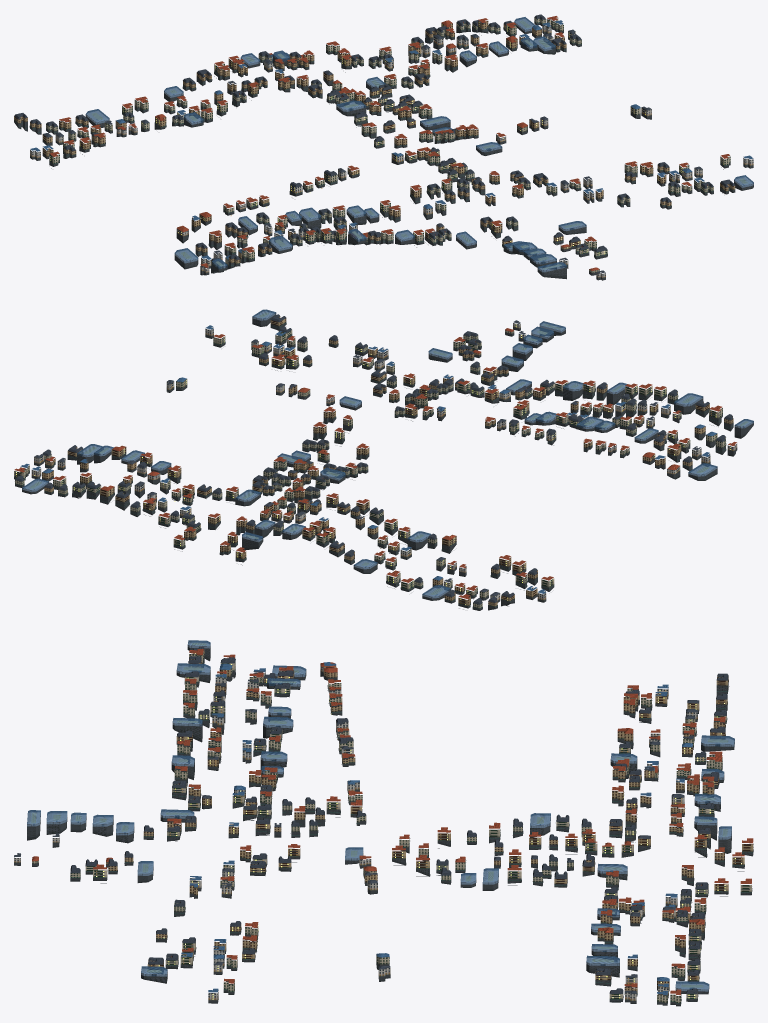
File: osm_buildings_T_W02_N01_Q1.glb
3 renders of one model, top to bottom at view 1: azimuth 30°, elevation 25°; view 2: azimuth 150°, elevation 25°; view 3: azimuth 270°, elevation 25°, orthographic. The views are drawn at different scales.
Parts seen in each view (by area): view 1: OSM_T_W02_N01_Q1_foundation, OSM_T_W02_N01_Q1_wall_french_ochre, OSM_T_W02_N01_Q1_wall_cream_stucco, OSM_T_W02_N01_Q1_greenhouse_blend, OSM_T_W02_N01_Q1_roof_terracotta, OSM_T_W02_N01_Q1_roof_mansard_slate, OSM_T_W02_N01_Q1_roof_mansard_deck, OSM_T_W02_N01_Q1_roof_mint_metal, OSM_T_W02_N01_Q1_wall_warm_white, OSM_T_W02_N01_Q1_trim_cornice, OSM_T_W02_N01_Q1_wall_pastel_sand, OSM_T_W02_N01_Q1_roof_alpine_blue (+2 smaller); view 2: OSM_T_W02_N01_Q1_foundation, OSM_T_W02_N01_Q1_wall_french_ochre, OSM_T_W02_N01_Q1_wall_cream_stucco, OSM_T_W02_N01_Q1_greenhouse_blend, OSM_T_W02_N01_Q1_roof_terracotta, OSM_T_W02_N01_Q1_roof_mansard_slate, OSM_T_W02_N01_Q1_roof_mansard_deck, OSM_T_W02_N01_Q1_roof_mint_metal, OSM_T_W02_N01_Q1_wall_pastel_sand, OSM_T_W02_N01_Q1_wall_warm_white, OSM_T_W02_N01_Q1_roof_alpine_blue, OSM_T_W02_N01_Q1_window_emissive_warm (+2 smaller); view 3: OSM_T_W02_N01_Q1_foundation, OSM_T_W02_N01_Q1_wall_french_ochre, OSM_T_W02_N01_Q1_greenhouse_blend, OSM_T_W02_N01_Q1_wall_cream_stucco, OSM_T_W02_N01_Q1_roof_terracotta, OSM_T_W02_N01_Q1_roof_mansard_slate, OSM_T_W02_N01_Q1_roof_mansard_deck, OSM_T_W02_N01_Q1_trim_cornice, OSM_T_W02_N01_Q1_roof_alpine_blue, OSM_T_W02_N01_Q1_window_emissive_warm, OSM_T_W02_N01_Q1_wall_pastel_sand, OSM_T_W02_N01_Q1_roof_mint_metal (+2 smaller).
Boxes of the visible parts, x1,y1,x2,y2 form: OSM_T_W02_N01_Q1_foundation: [14, 21, 753, 280]; OSM_T_W02_N01_Q1_wall_french_ochre: [14, 21, 735, 263]; OSM_T_W02_N01_Q1_wall_cream_stucco: [46, 17, 730, 272]; OSM_T_W02_N01_Q1_greenhouse_blend: [85, 17, 753, 272]; OSM_T_W02_N01_Q1_roof_terracotta: [49, 16, 729, 270]; OSM_T_W02_N01_Q1_roof_mansard_slate: [14, 16, 734, 273]; OSM_T_W02_N01_Q1_roof_mansard_deck: [16, 14, 751, 271]; OSM_T_W02_N01_Q1_roof_mint_metal: [14, 22, 734, 269]; OSM_T_W02_N01_Q1_wall_warm_white: [30, 25, 753, 240]; OSM_T_W02_N01_Q1_trim_cornice: [15, 18, 752, 273]; OSM_T_W02_N01_Q1_wall_pastel_sand: [116, 31, 692, 277]; OSM_T_W02_N01_Q1_roof_alpine_blue: [30, 20, 753, 259]; OSM_T_W02_N01_Q1_foundation: [14, 314, 753, 610]; OSM_T_W02_N01_Q1_wall_french_ochre: [42, 316, 733, 606]; OSM_T_W02_N01_Q1_wall_cream_stucco: [14, 328, 725, 608]; OSM_T_W02_N01_Q1_greenhouse_blend: [22, 309, 753, 598]; OSM_T_W02_N01_Q1_roof_terracotta: [14, 328, 736, 599]; OSM_T_W02_N01_Q1_roof_mansard_slate: [15, 314, 733, 604]; OSM_T_W02_N01_Q1_roof_mansard_deck: [17, 313, 743, 602]; OSM_T_W02_N01_Q1_roof_mint_metal: [14, 323, 733, 608]; OSM_T_W02_N01_Q1_wall_pastel_sand: [34, 323, 737, 572]; OSM_T_W02_N01_Q1_wall_warm_white: [31, 327, 680, 600]; OSM_T_W02_N01_Q1_roof_alpine_blue: [20, 325, 716, 593]; OSM_T_W02_N01_Q1_window_emissive_warm: [16, 313, 747, 599]; OSM_T_W02_N01_Q1_foundation: [14, 646, 753, 1006]; OSM_T_W02_N01_Q1_wall_french_ochre: [106, 649, 753, 992]; OSM_T_W02_N01_Q1_greenhouse_blend: [27, 640, 734, 991]; OSM_T_W02_N01_Q1_wall_cream_stucco: [32, 651, 751, 1003]; OSM_T_W02_N01_Q1_roof_terracotta: [32, 649, 753, 995]; OSM_T_W02_N01_Q1_roof_mansard_slate: [14, 647, 728, 994]; OSM_T_W02_N01_Q1_roof_mansard_deck: [27, 645, 731, 991]; OSM_T_W02_N01_Q1_trim_cornice: [14, 654, 752, 1002]; OSM_T_W02_N01_Q1_roof_alpine_blue: [181, 662, 692, 994]; OSM_T_W02_N01_Q1_window_emissive_warm: [32, 643, 735, 998]; OSM_T_W02_N01_Q1_wall_pastel_sand: [14, 657, 684, 1000]; OSM_T_W02_N01_Q1_roof_mint_metal: [70, 670, 752, 1003].
Bounding box in the file's own units: 935 × 91.98 × 922.
16 materials, 16 textured.
